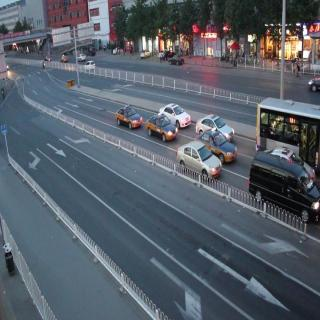BigCar: (255, 94, 319, 155)
Car: (252, 150, 320, 223), (177, 141, 222, 185), (195, 128, 239, 162), (161, 96, 193, 128), (146, 114, 177, 147), (197, 113, 236, 139), (116, 104, 143, 132), (169, 54, 185, 68), (307, 75, 320, 92), (140, 48, 152, 60), (86, 59, 96, 72), (58, 54, 70, 64), (77, 52, 86, 64), (43, 55, 52, 64)
